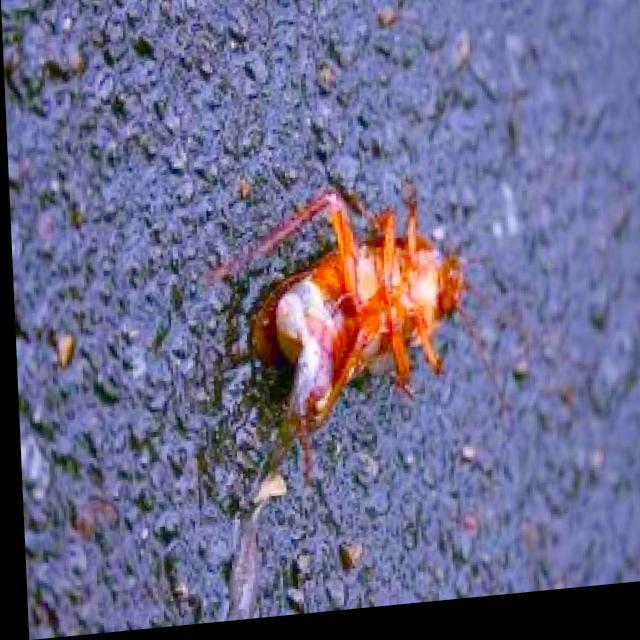cockroach: (201, 174, 472, 486)
